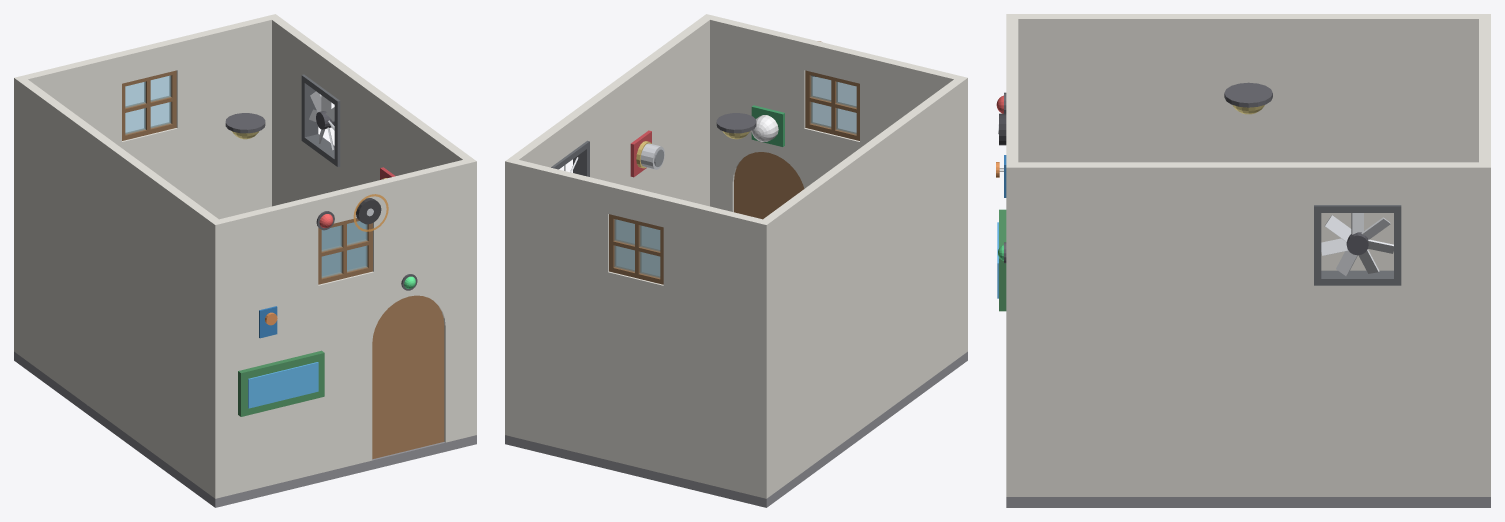
The model's file is nha_cap_4.glb.
The picture shows the model from 3 angles, left to right: view 1: azimuth 30°, elevation 25°; view 2: azimuth 150°, elevation 25°; view 3: azimuth 270°, elevation 25°; orthographic projection. The views are drawn at different scales.
Parts seen in each view (by area): view 1: Tuong_Truoc, Tuong_Trai, Tuong_Sau, Tuong_Phai, Cua_Chinh, San_Nha, ManHinh_LCD_Nen, ManHinh_LCD_Vien, Cua_So_Sau, Cua_So_Truoc, Den_LED1_De, Khung_Quat_3 (+2 smaller); view 2: Tuong_Sau, Tuong_Trai, Tuong_Truoc, Tuong_Phai, San_Nha, Cua_Chinh, Cua_So_Sau, Cua_So_Truoc, Den_LED1_De, CamBien_PIR_BoMach; view 3: Tuong_Phai, Tuong_Trai, Tuong_Truoc, Tuong_Sau, San_Nha, Canh_Quat, Khung_Quat_1, Den_LED1_De, Khung_Quat_0, ManHinh_LCD_Vien.
Part boxes in pixels (bbox=[...]): Tuong_Truoc: bbox=[210, 157, 476, 498]; Tuong_Trai: bbox=[19, 79, 218, 494]; Tuong_Sau: bbox=[14, 14, 279, 354]; Tuong_Phai: bbox=[272, 17, 471, 275]; Cua_Chinh: bbox=[372, 295, 444, 459]; San_Nha: bbox=[14, 351, 476, 507]; ManHinh_LCD_Nen: bbox=[248, 362, 318, 408]; ManHinh_LCD_Vien: bbox=[238, 350, 324, 416]; Cua_So_Sau: bbox=[125, 75, 171, 134]; Cua_So_Truoc: bbox=[321, 221, 367, 278]; Den_LED1_De: bbox=[225, 113, 265, 133]; Khung_Quat_3: bbox=[301, 81, 318, 137]; Tuong_Sau: bbox=[505, 157, 771, 498]; Tuong_Trai: bbox=[763, 79, 962, 494]; Tuong_Truoc: bbox=[702, 14, 967, 354]; Tuong_Phai: bbox=[510, 17, 709, 275]; San_Nha: bbox=[505, 351, 967, 507]; Cua_Chinh: bbox=[734, 152, 804, 219]; Cua_So_Sau: bbox=[614, 219, 660, 278]; Cua_So_Truoc: bbox=[810, 75, 856, 134]; Den_LED1_De: bbox=[716, 113, 756, 133]; CamBien_PIR_BoMach: bbox=[751, 105, 784, 146]; Tuong_Phai: bbox=[1018, 162, 1478, 496]; Tuong_Trai: bbox=[1018, 14, 1478, 270]; Tuong_Truoc: bbox=[1006, 14, 1018, 496]; Tuong_Sau: bbox=[1479, 14, 1490, 496]; San_Nha: bbox=[1006, 497, 1490, 507]; Canh_Quat: bbox=[1321, 213, 1393, 276]; Khung_Quat_1: bbox=[1314, 270, 1401, 285]; Den_LED1_De: bbox=[1224, 82, 1272, 107]; Khung_Quat_0: bbox=[1314, 205, 1401, 212]; ManHinh_LCD_Vien: bbox=[999, 209, 1006, 311].
Bounding box in the file's own units: 0.1515 × 0.155 × 0.2043.
